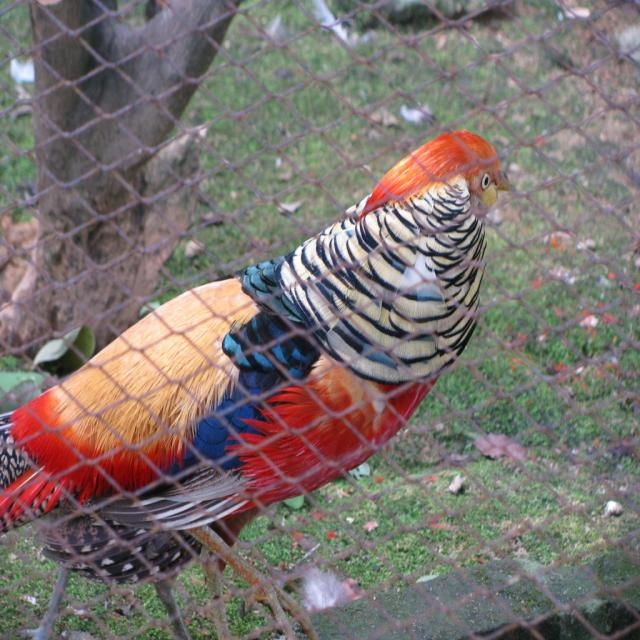Chicken: (0, 130, 508, 639)
